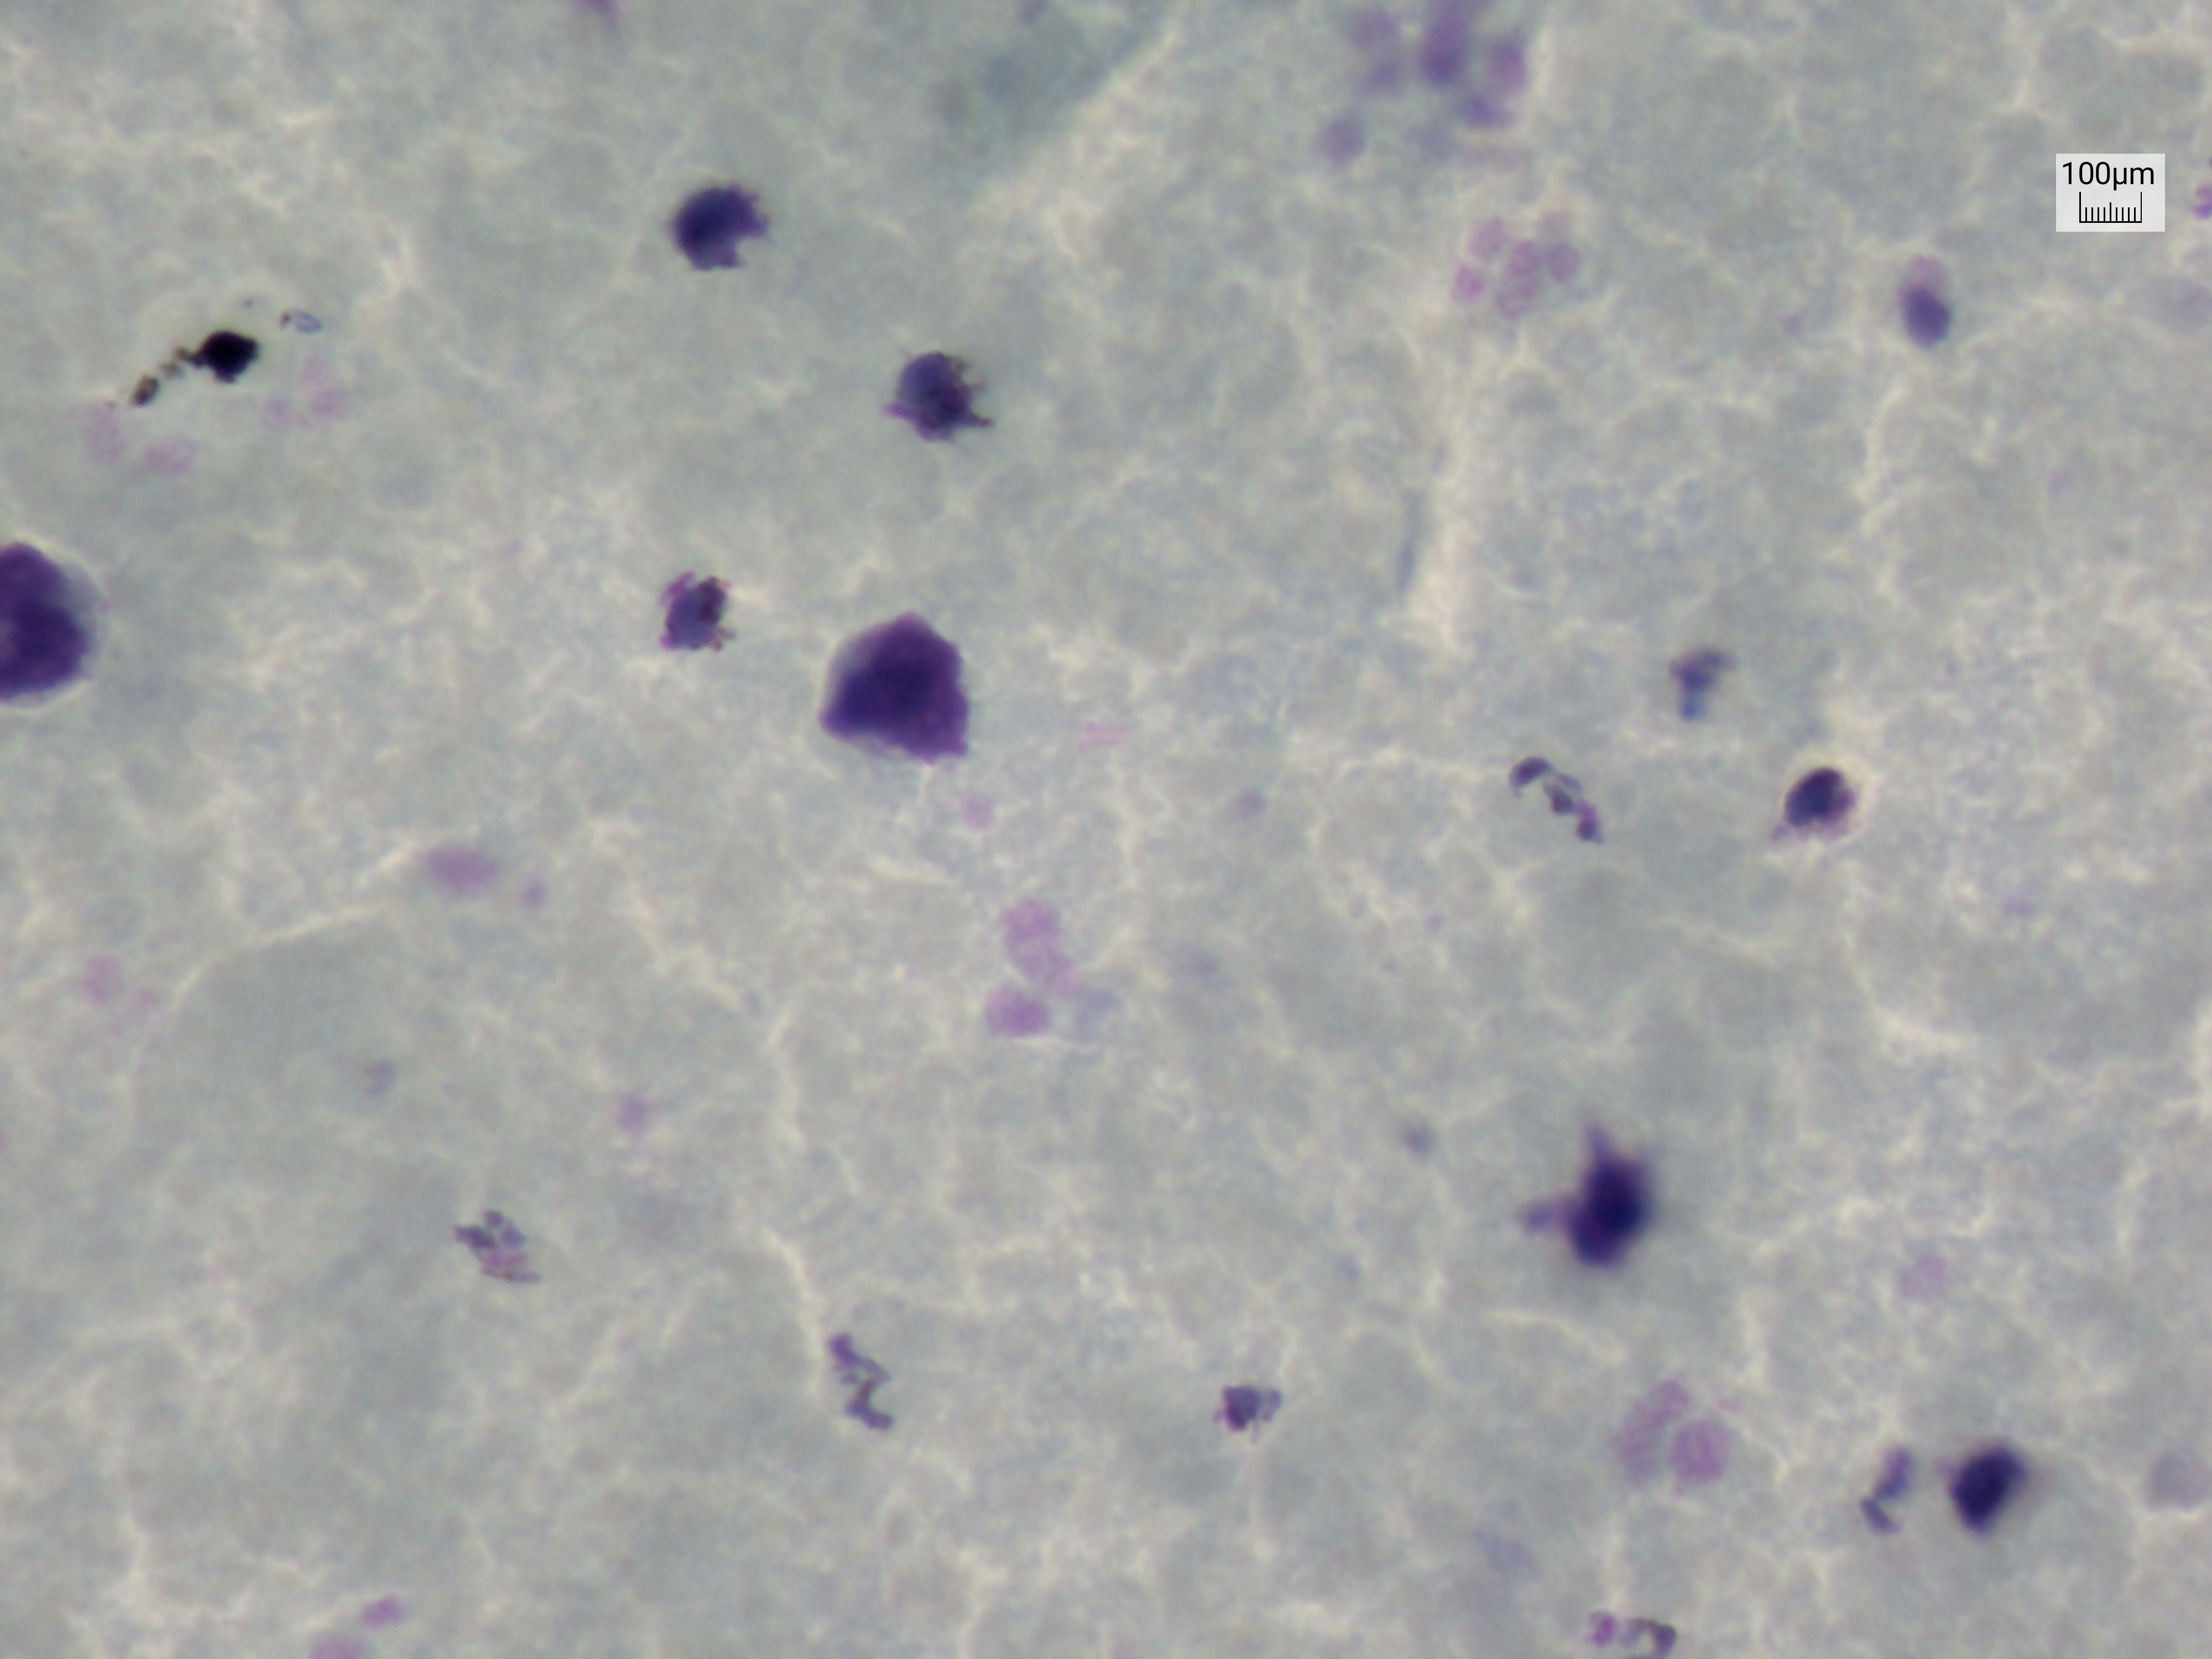p.vivax: (1775, 734, 1893, 899), (1484, 734, 1623, 866), (810, 1310, 904, 1476), (653, 540, 744, 692), (1190, 1358, 1301, 1455), (1568, 1577, 1702, 1654), (263, 288, 354, 362)
